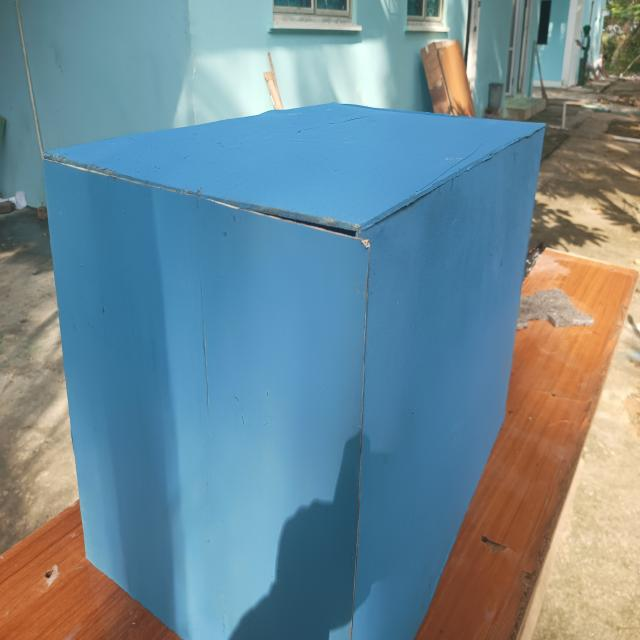blue_box: (23, 62, 544, 640)
